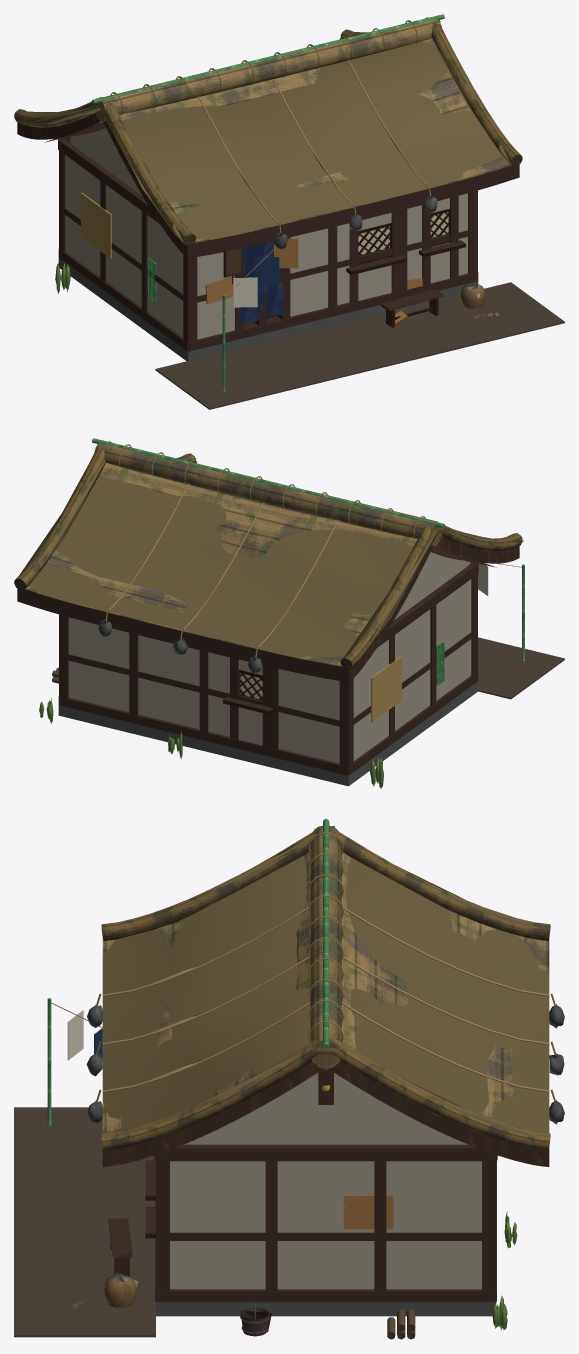
The model's file is prop_poor_house.gltf.
3 renders of one model, top to bottom at view 1: azimuth 30°, elevation 25°; view 2: azimuth 150°, elevation 25°; view 3: azimuth 270°, elevation 25°, orthographic. The views are drawn at different scales.
Parts seen in each view (by area): view 1: Far, Near; view 2: Far, Near; view 3: Far, Near.
Part boxes in pixels (bbox=[...]): Far: bbox=[14, 20, 564, 408]; Near: bbox=[14, 14, 564, 409]; Far: bbox=[14, 440, 564, 786]; Near: bbox=[14, 438, 564, 789]; Far: bbox=[14, 823, 564, 1338]; Near: bbox=[14, 819, 564, 1339].
Size of the model in its own units: 7.7 by 4.8 by 7.77.
27 materials, 15 textured.
